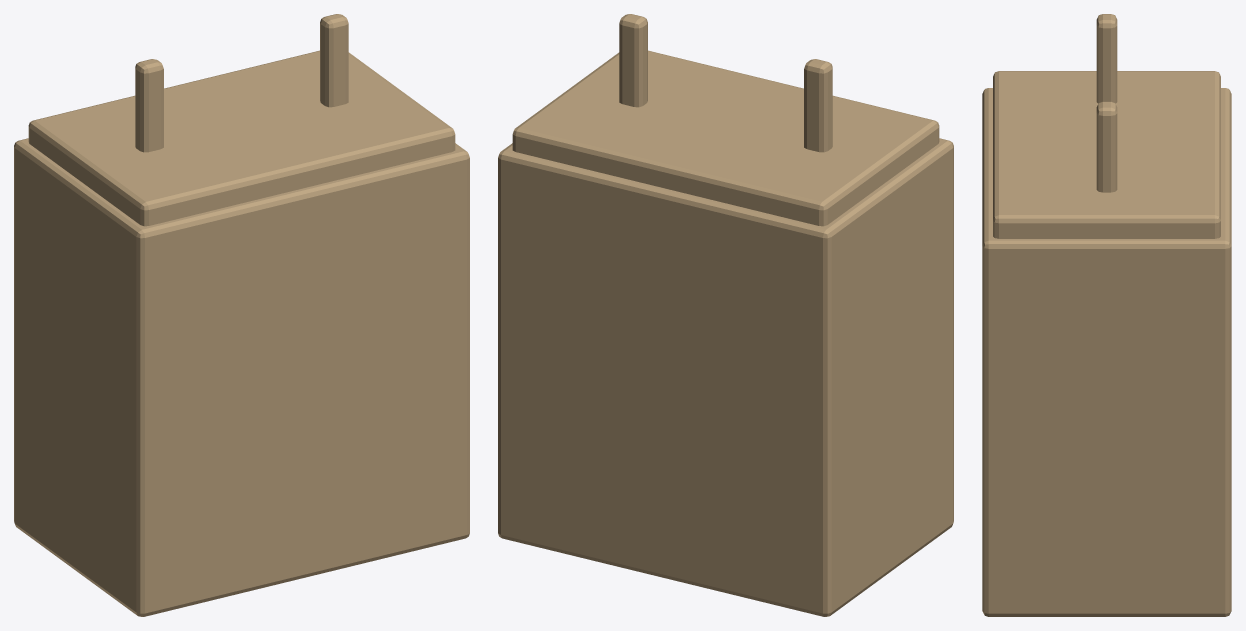
Rendered from Bag.fbx.
3 renders of one model, left to right at view 1: azimuth 30°, elevation 25°; view 2: azimuth 150°, elevation 25°; view 3: azimuth 270°, elevation 25°, orthographic. The views are drawn at different scales.
Parts seen in each view (by area): view 1: Bag; view 2: Bag; view 3: Bag.
Boxes of the visible parts, x1,y1,x2,y2 form: Bag: (14, 14, 469, 616); Bag: (498, 14, 953, 616); Bag: (982, 14, 1231, 616).
Size of the model in its own units: 0.36 by 0.51 by 0.24.
